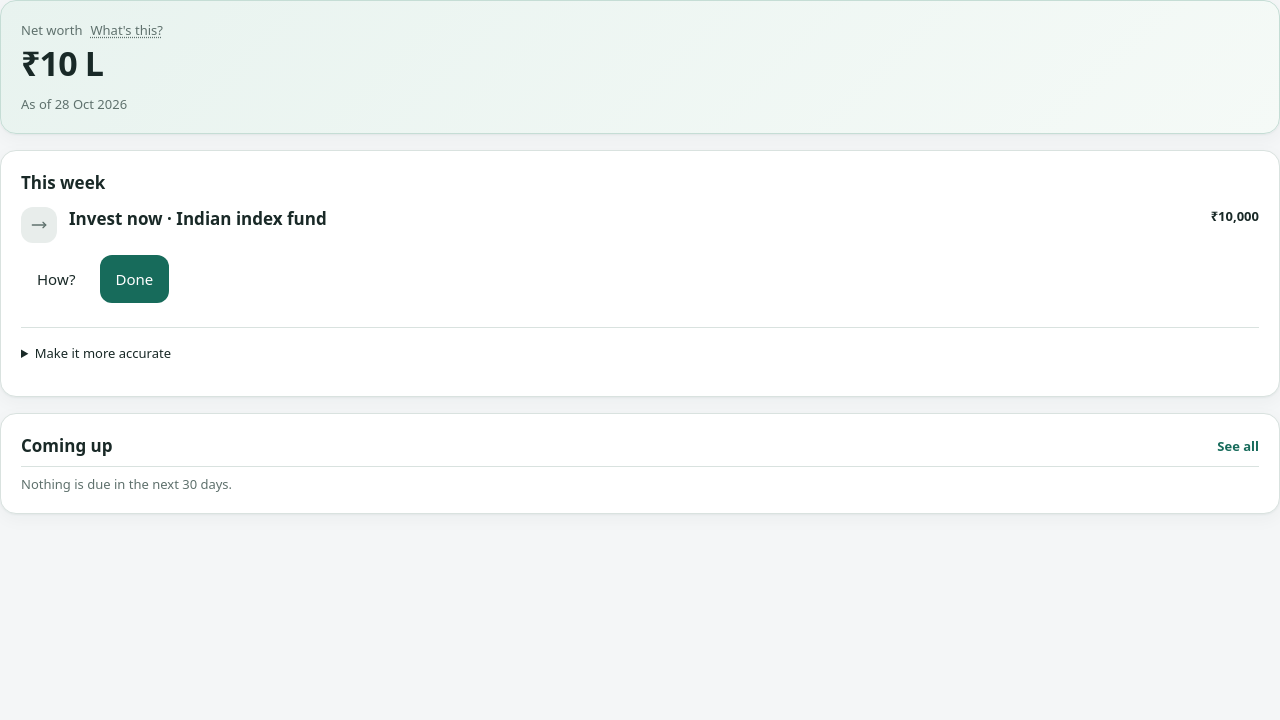
it: Home this week › shows one action and removes it after Mark done succeeds
The image size is (1280, 720).
Expected: the element "Invest now · Indian index fund ₹10,000 How? Done" is shown, left=21, top=207, right=1259, bottom=315
Expected: the text "₹10,000" is shown, left=1211, top=207, right=1259, bottom=225
Click the button with aria-label "Mark done". click: (134, 279)
box: left=100, top=255, right=169, bottom=303
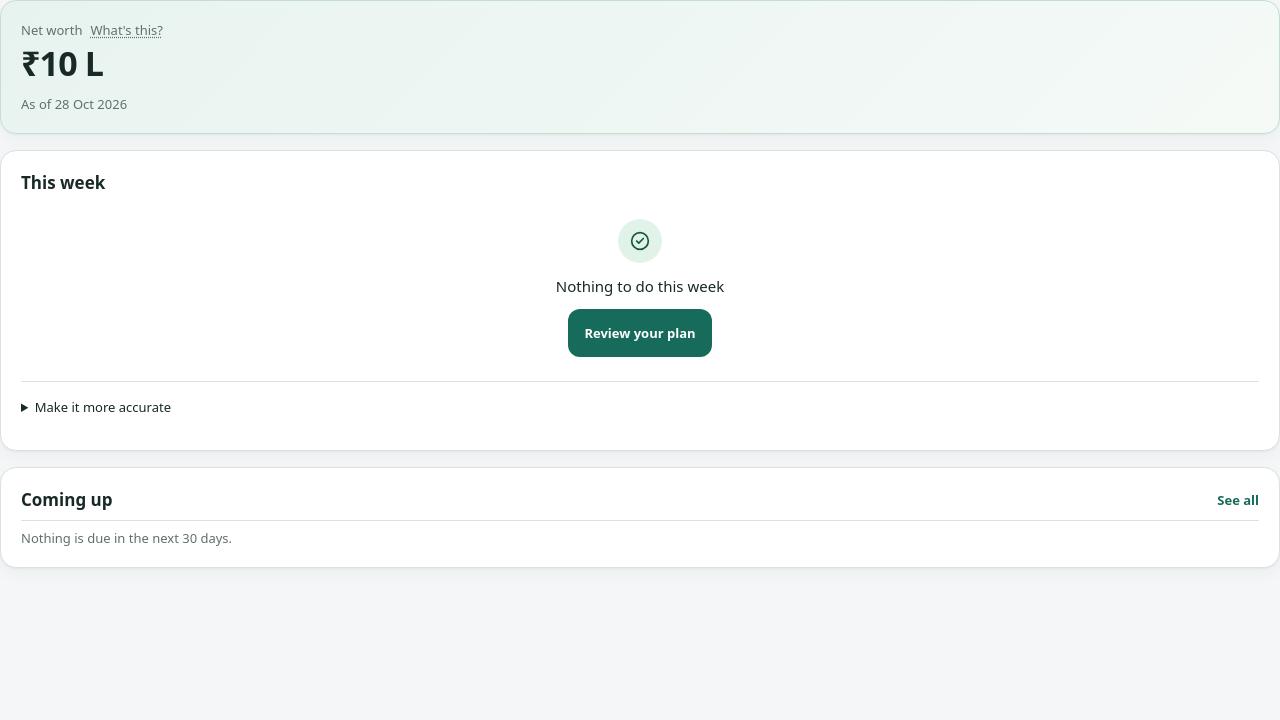
Now the text "Nothing to do this week" is shown, box left=556, top=275, right=724, bottom=297
